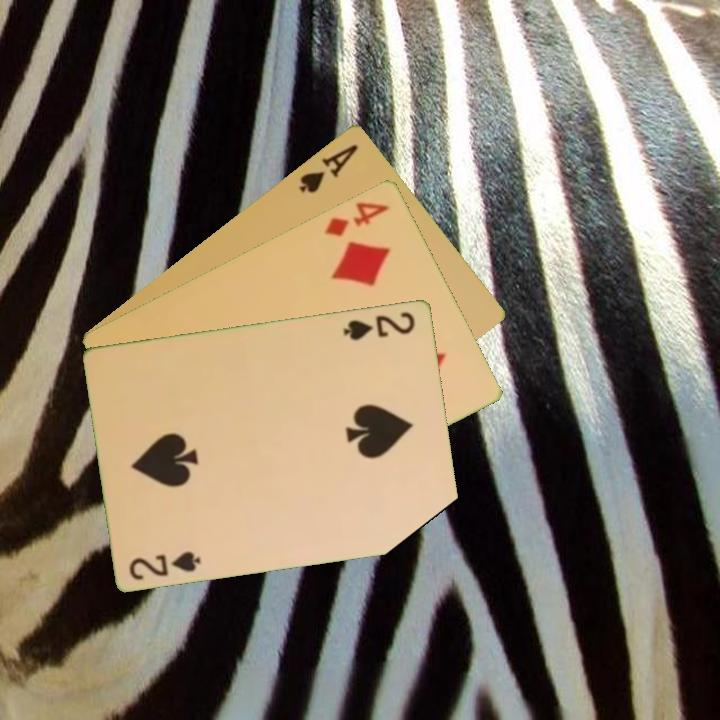2s: (126, 547, 204, 583), (340, 308, 418, 343)
4d: (320, 197, 393, 239)
As: (295, 140, 361, 196)
